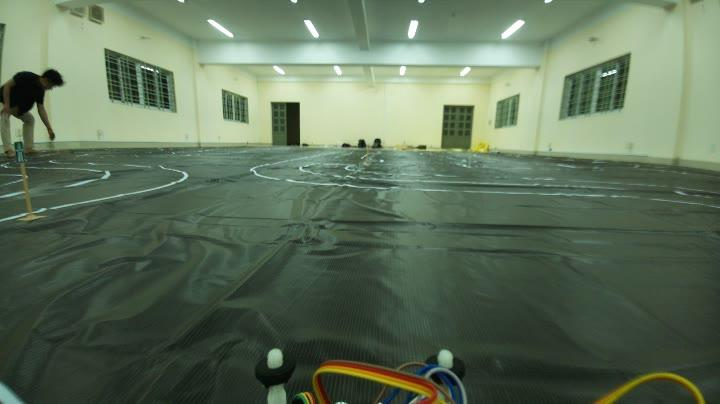highway_entry: (10, 140, 31, 166)
